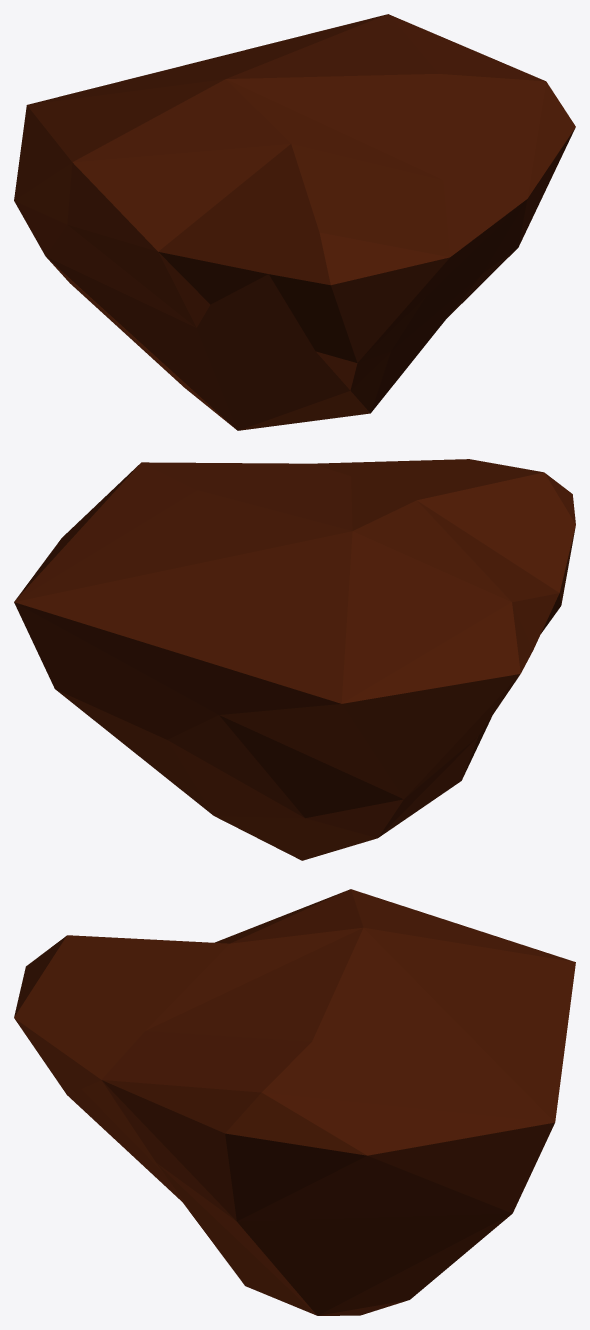
The model's file is GroundChunk_2.fbx.
3 renders of one model, top to bottom at view 1: azimuth 30°, elevation 25°; view 2: azimuth 150°, elevation 25°; view 3: azimuth 270°, elevation 25°, orthographic. The views are drawn at different scales.
Visible parts, largest first — view 1: GroundChunk_2; view 2: GroundChunk_2; view 3: GroundChunk_2.
Part boxes in pixels (bbox=[...]): GroundChunk_2: bbox=[14, 14, 575, 430]; GroundChunk_2: bbox=[14, 459, 575, 860]; GroundChunk_2: bbox=[14, 889, 575, 1315].
Bounding box in the file's own units: 829 × 574 × 809.
